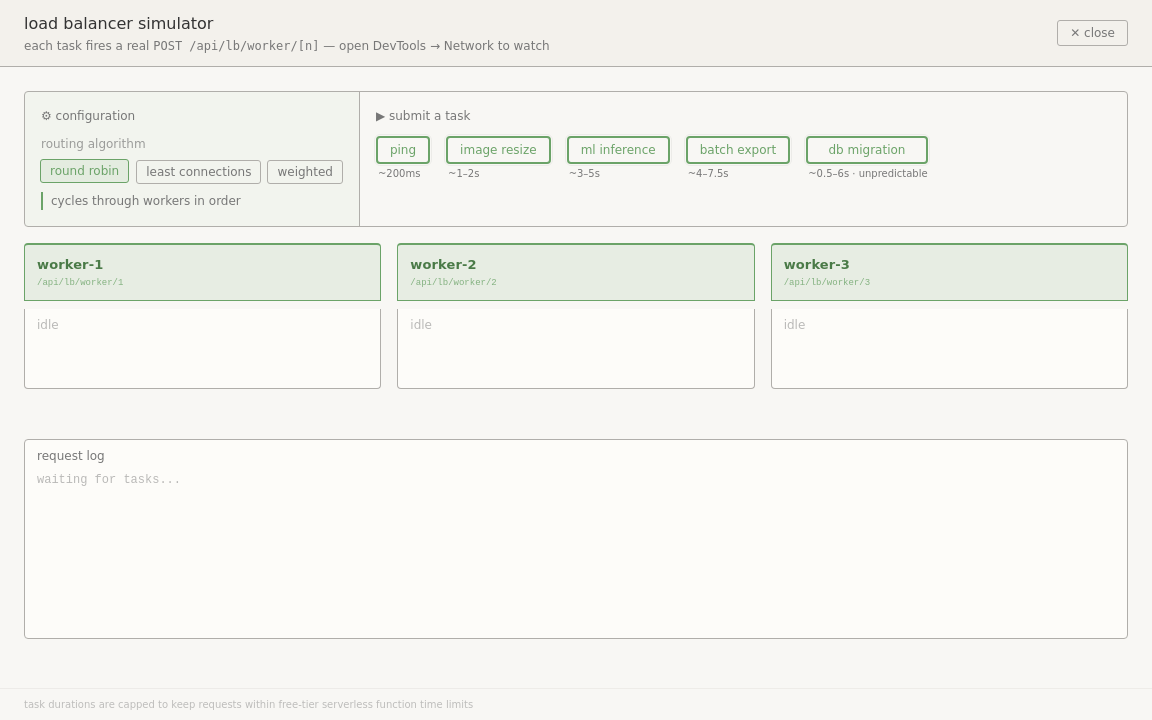
Test: LoadBalancerOverlay › selecting a different algorithm updates the active button styling cue
Click the button "weighted": (305, 172) [268, 160, 343, 184]
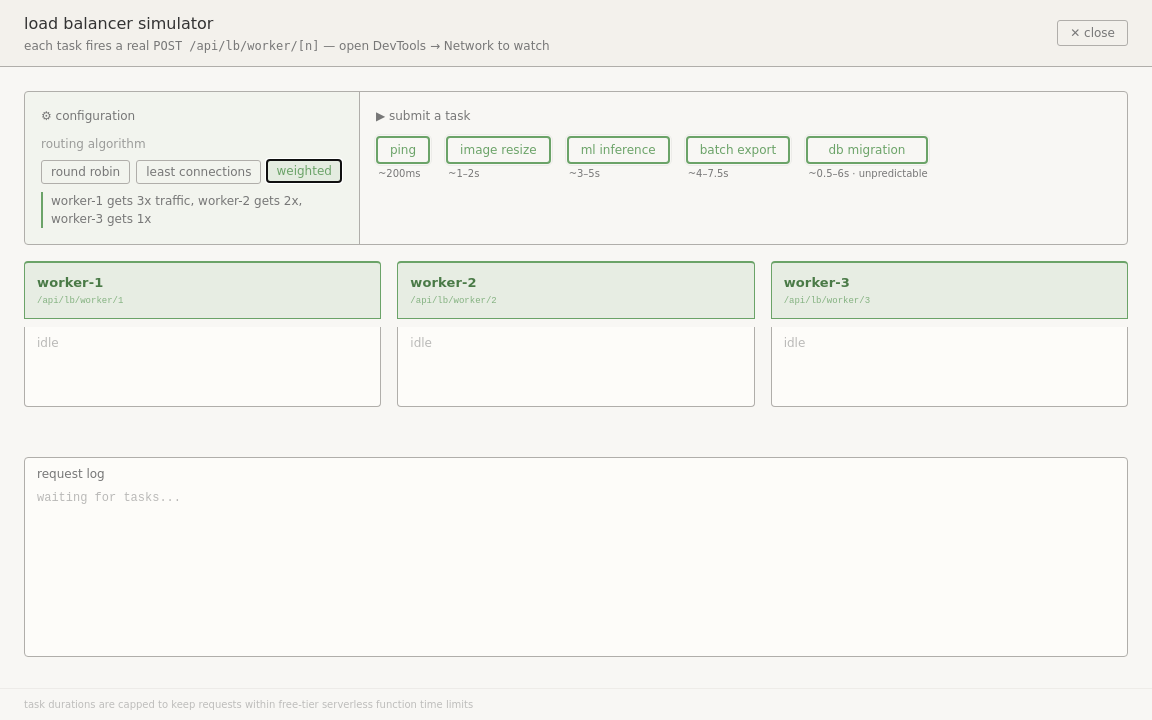
Check: the text "worker-1 gets 3x traffic, worker-2 gets 2x, worker-3 gets 1x" is shown, box [41, 192, 321, 228]
